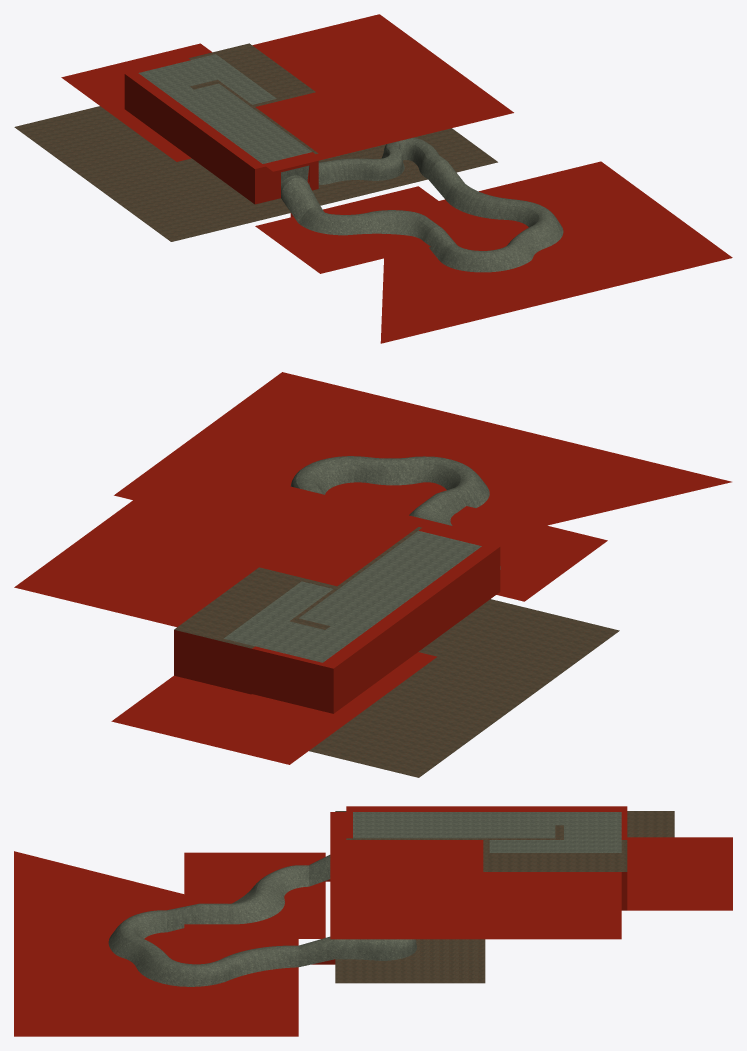
3 views of the same model, one above another, from view 1: azimuth 30°, elevation 25°; view 2: azimuth 150°, elevation 25°; view 3: azimuth 270°, elevation 25° (orthographic). The views are drawn at different scales.
Visible parts, largest first — view 1: course-SKP--Default_Material.020, course-SKP--Material1.010, course-SKP--Material4.008; view 2: course-SKP--Default_Material.020, course-SKP--Material1.010, course-SKP--Material4.008; view 3: course-SKP--Default_Material.020, course-SKP--Material4.008, course-SKP--Material1.010.
Boxes of the visible parts, <box> form: course-SKP--Default_Material.020: <box>61,14,732,343</box>; course-SKP--Material1.010: <box>14,43,497,241</box>; course-SKP--Material4.008: <box>138,54,563,272</box>; course-SKP--Default_Material.020: <box>14,372,731,764</box>; course-SKP--Material1.010: <box>174,527,619,777</box>; course-SKP--Material4.008: <box>224,456,500,662</box>; course-SKP--Default_Material.020: <box>14,806,732,1036</box>; course-SKP--Material4.008: <box>108,812,621,986</box>; course-SKP--Material1.010: <box>335,811,674,983</box>.
Bounding box in the file's own units: 158906 × 27064 × 222024.
10 materials, 10 textured.
